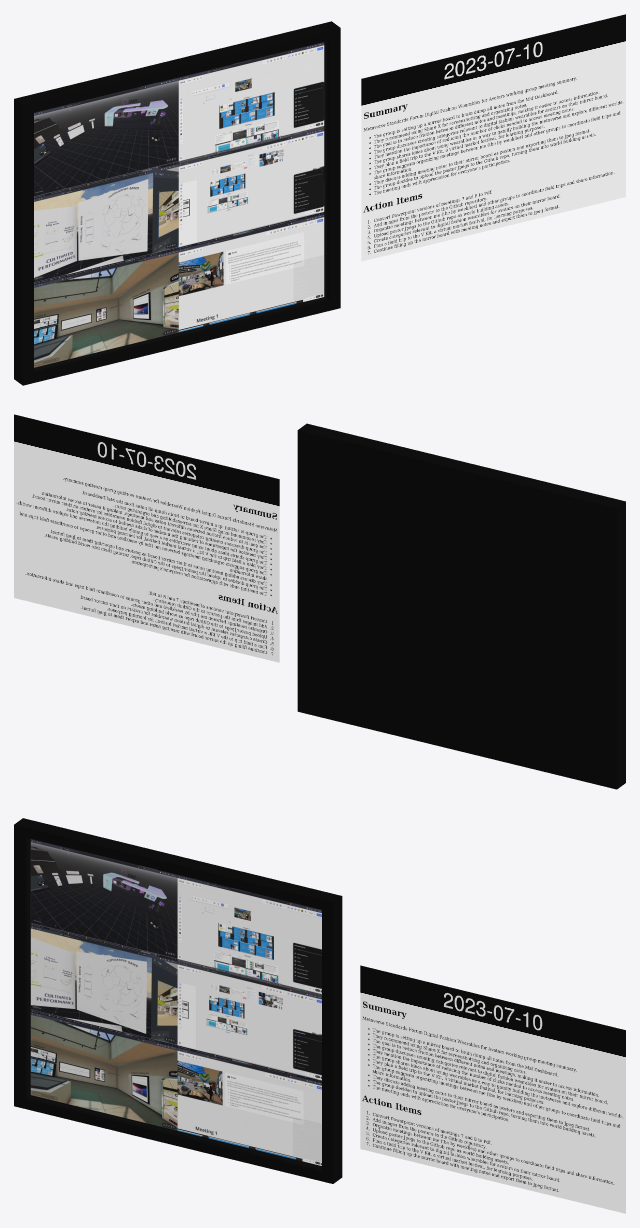
3 views of the same model, one above another, from view 1: azimuth 30°, elevation 25°; view 2: azimuth 150°, elevation 25°; view 3: azimuth 330°, elevation 25° (orthographic).
Visible parts, largest first — view 1: 2023-07-10; view 2: 2023-07-10; view 3: 2023-07-10.
Boxes of the visible parts, x1=… form: 2023-07-10: x1=14, y1=14, x2=625, y2=385; 2023-07-10: x1=14, y1=414, x2=625, y2=789; 2023-07-10: x1=14, y1=818, x2=625, y2=1213.
Size of the model in its own units: 2.6 by 1.15 by 0.0666.
3 materials, 2 textured.
